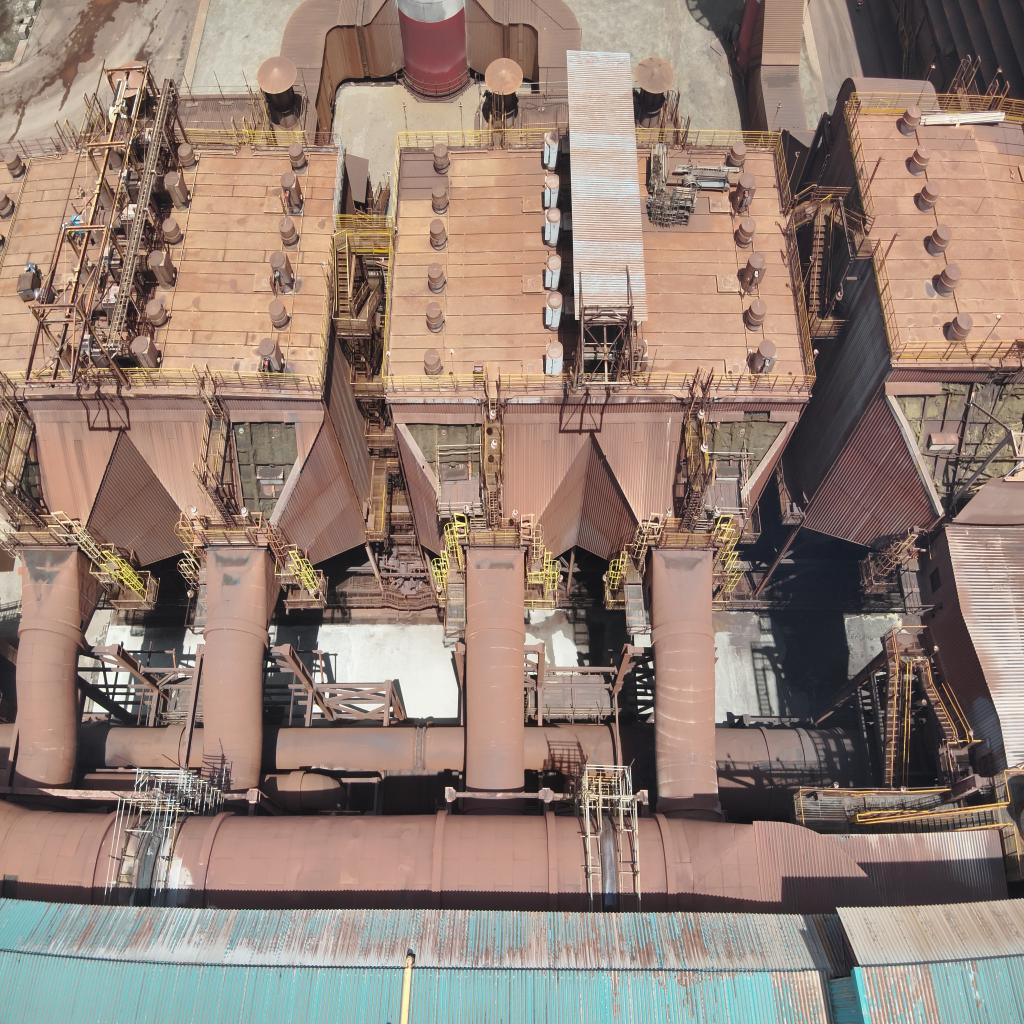Failures: (892, 378, 1023, 519), (231, 418, 301, 525), (706, 413, 788, 488), (405, 418, 483, 487)
